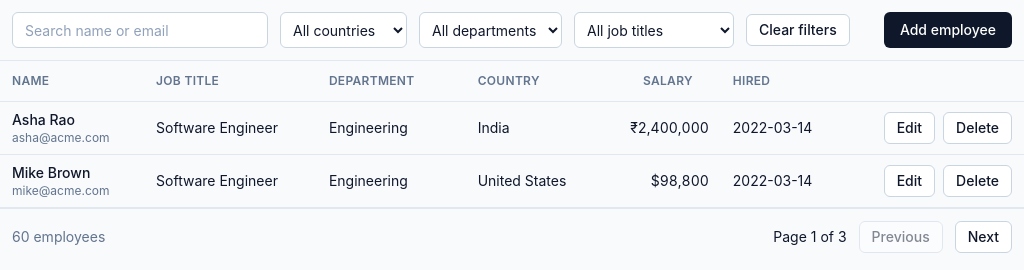
Scenario: EmployeesPage › paging › goes back with Previous
Expected: the text "Asha Rao" is shown, [12, 110, 75, 128]
Click the button "Next" at (983, 236), box [955, 220, 1012, 252]
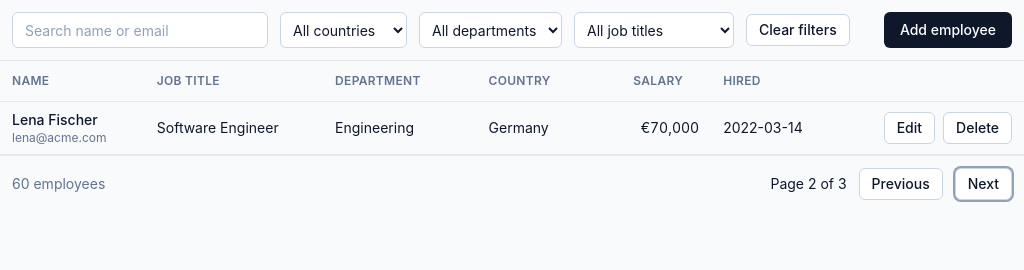
Expected: the text "Lena Fischer" is shown, [12, 110, 98, 128]
Click the button "Previous" at (901, 184), box [859, 168, 943, 200]
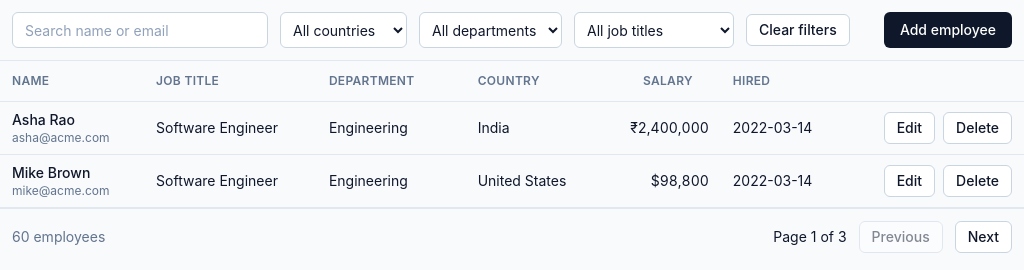
Expected: the text "Asha Rao" is shown, [12, 110, 75, 128]
